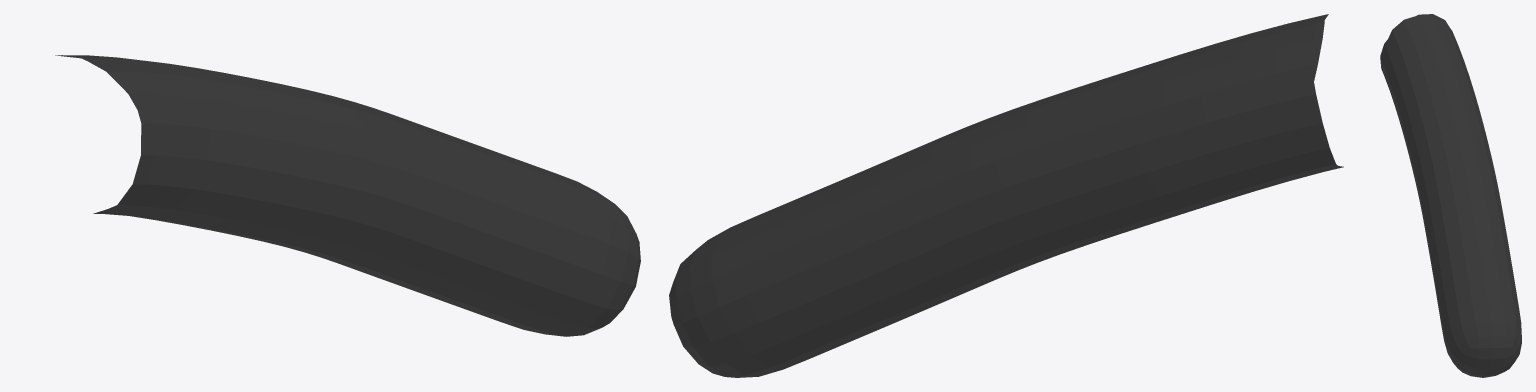
The model's file is spiderleg.glb.
3 views of the same model, side by side, from view 1: azimuth 30°, elevation 25°; view 2: azimuth 150°, elevation 25°; view 3: azimuth 270°, elevation 25° (orthographic). The views are drawn at different scales.
Parts seen in each view (by area): view 1: Vert; view 2: Vert; view 3: Vert.
Part boxes in pixels (box(x1,y1,x2,y2)): Vert: box(55, 55, 640, 336); Vert: box(669, 14, 1343, 377); Vert: box(1380, 14, 1521, 377).
Bounding box in the file's own units: 0.166 × 0.1109 × 0.0628.
Materials: 1 (1 with a texture image).
